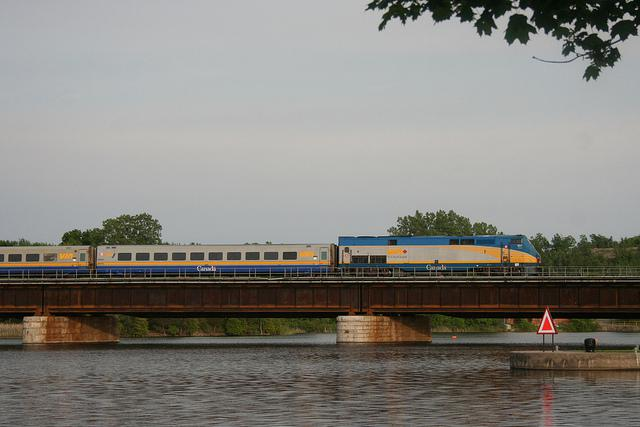Train: (0, 236, 544, 269)
